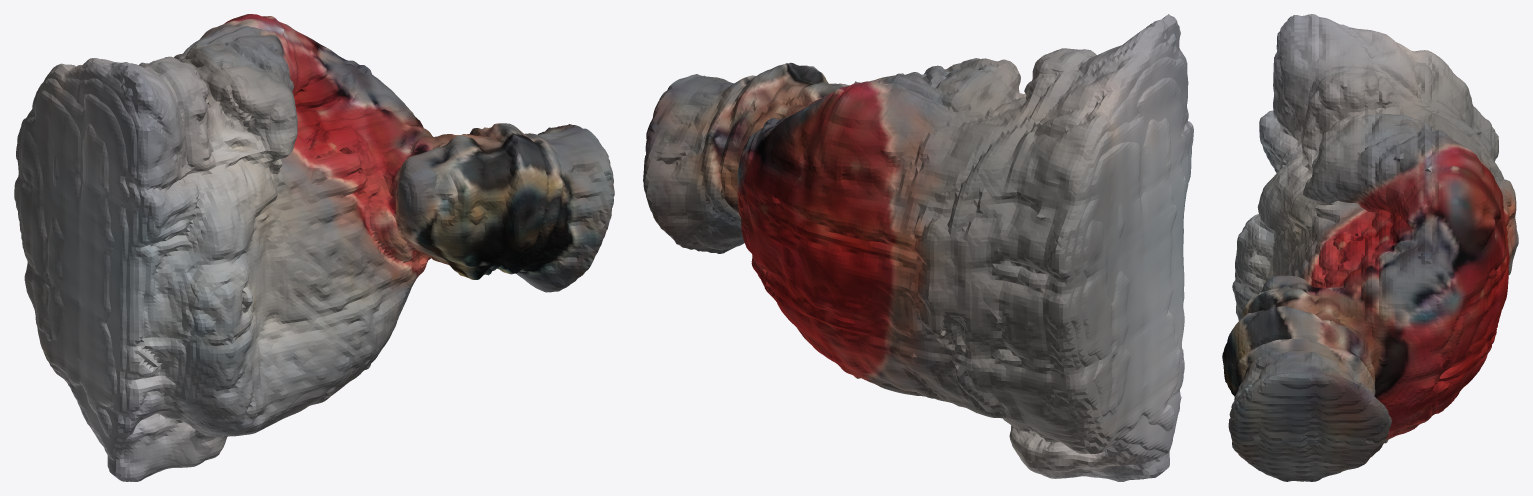
Rendered from front_eye_level_mesh.obj.
3 views of the same model, side by side, from view 1: azimuth 30°, elevation 25°; view 2: azimuth 150°, elevation 25°; view 3: azimuth 270°, elevation 25° (orthographic). The views are drawn at different scales.
Size of the model in its own units: 0.9803 by 0.8229 by 0.573.
